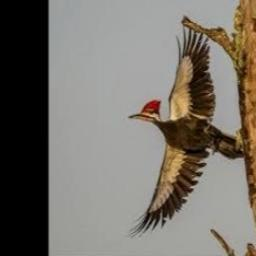Woodpecker: (125, 25, 246, 241)
